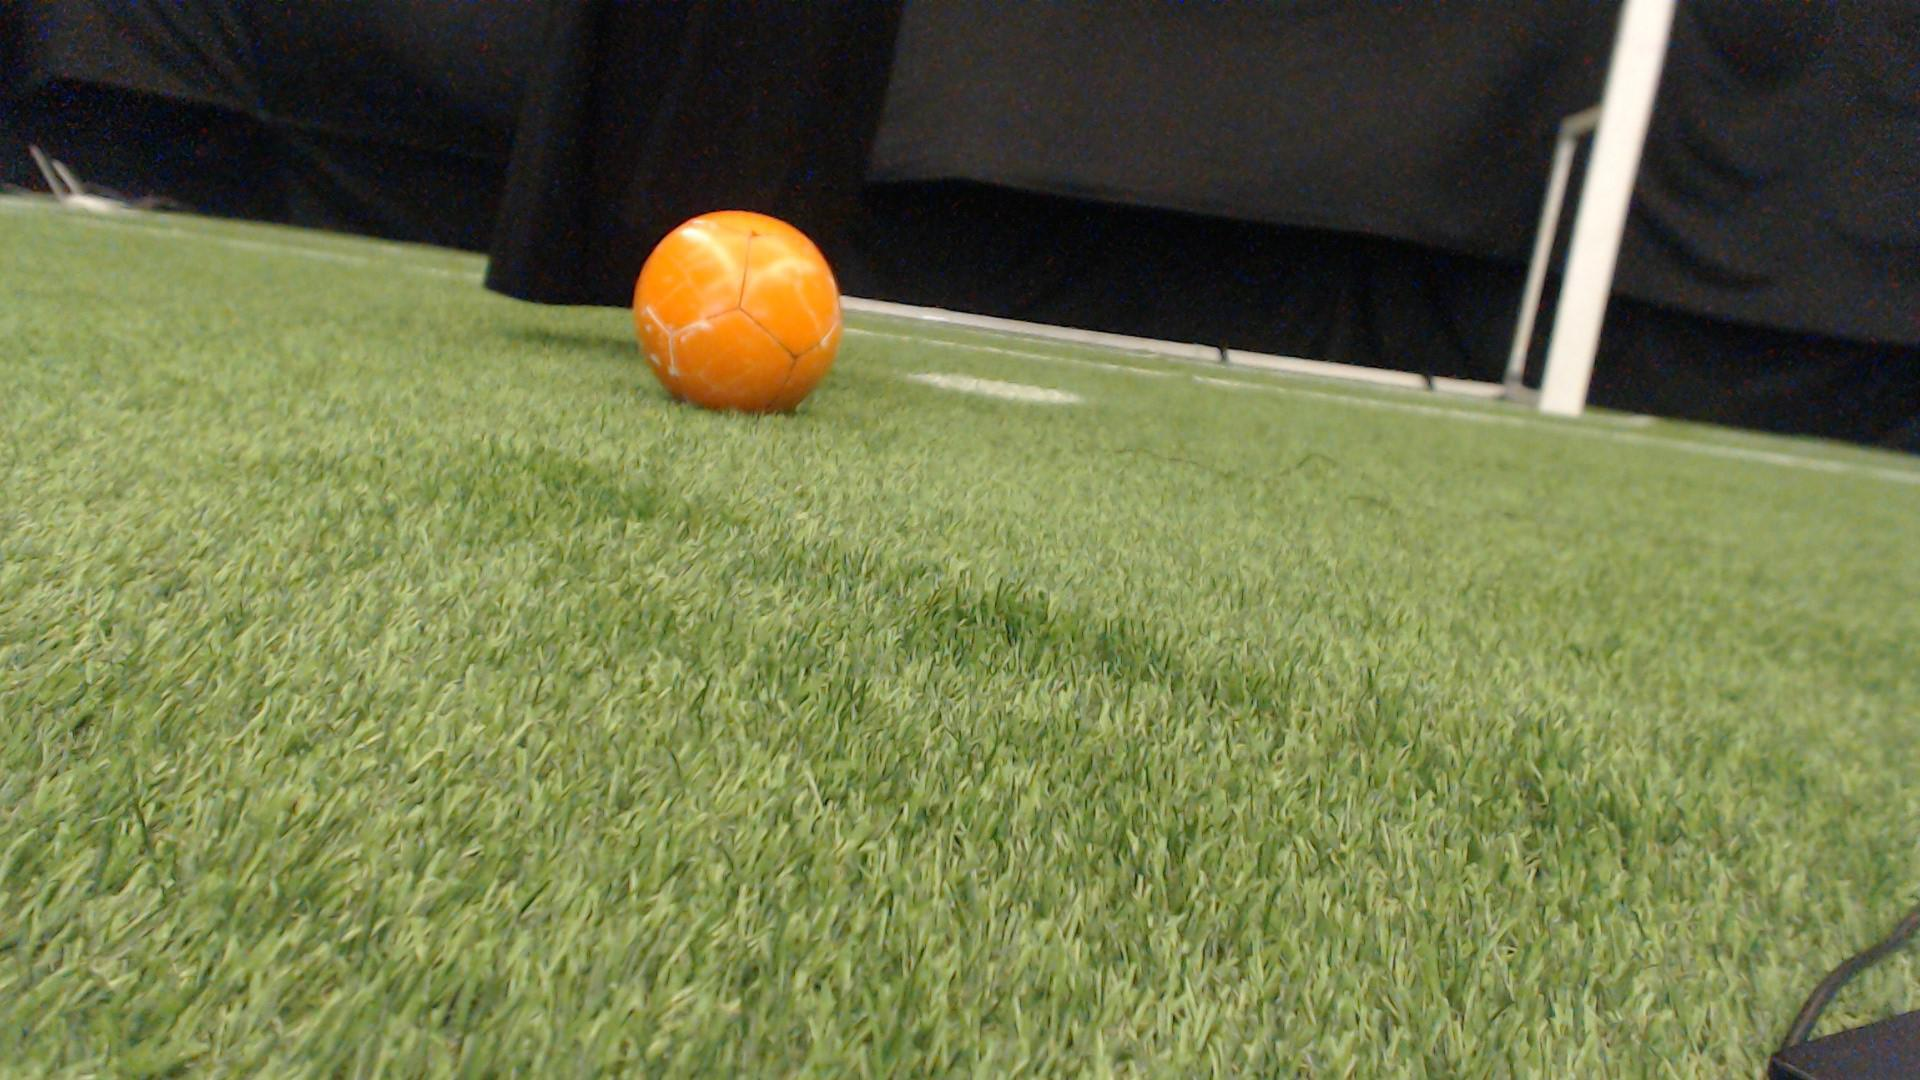bola: (609, 185, 874, 435)
